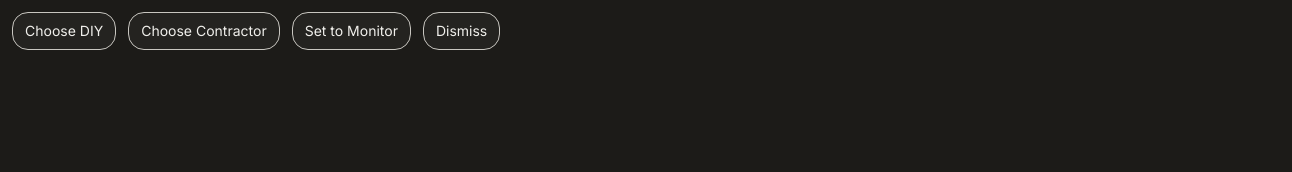
<ChoosePath cardState="decide" /> › Set to Monitor → mounts cadence picker (no POST yet)
Step 1. Click the button with test id "choose-monitor" → [351, 31], box [292,12,411,50]
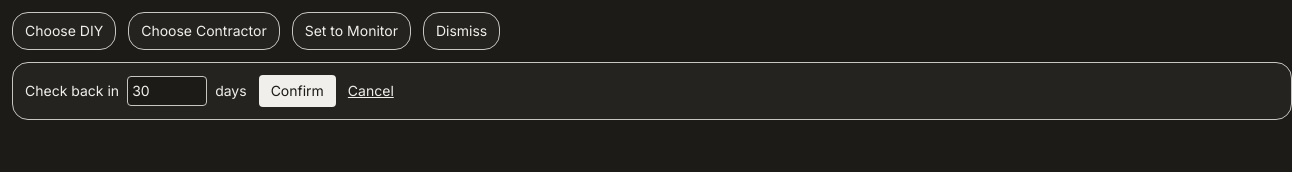
Check: the element with test id "monitor-cadence-picker" is shown, box [12,62,1291,120]
